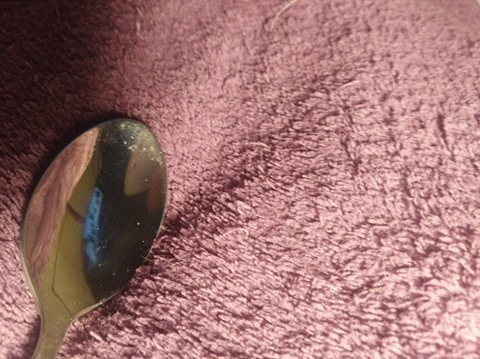Lyzka: (20, 112, 166, 309)
